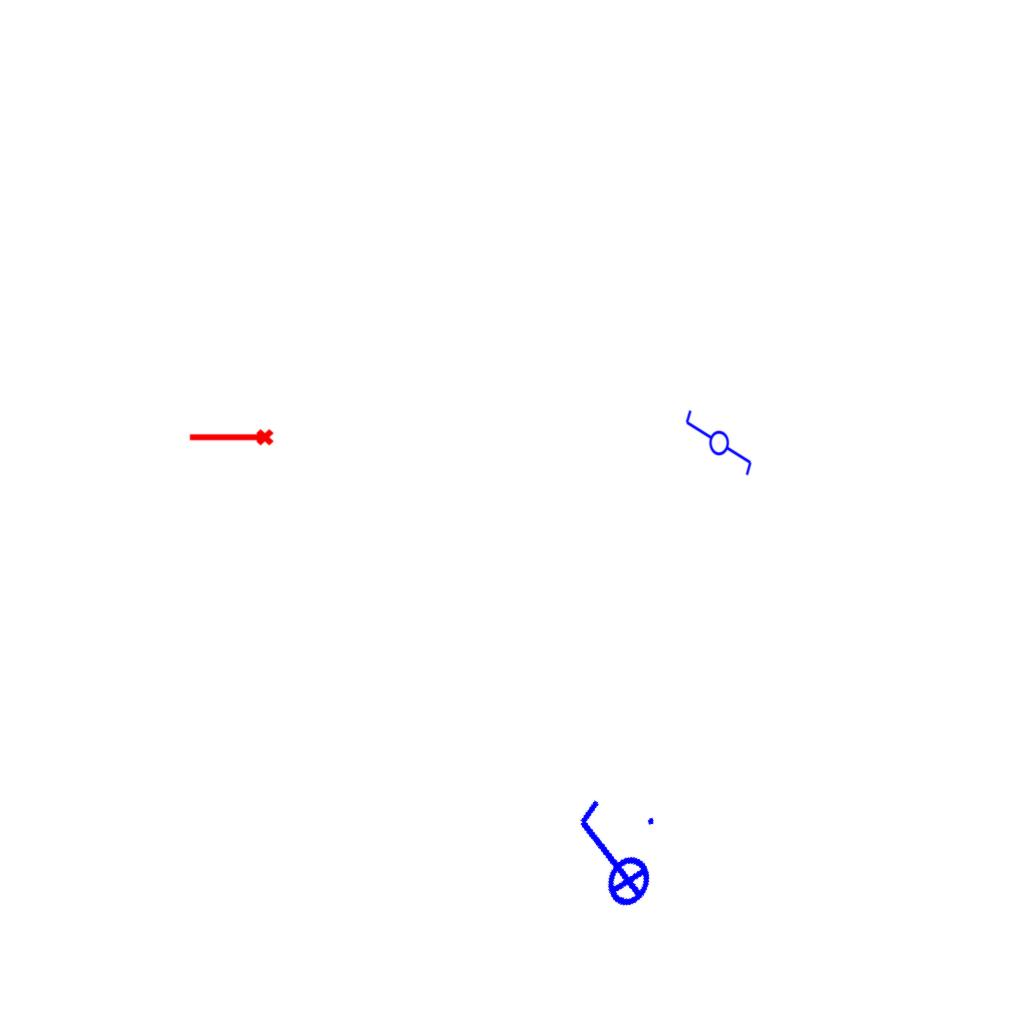ASR_Ansaugoeffnung: (187, 427, 275, 450)
Ausschalter_beleuchtet: (545, 786, 675, 926)
Wechselschalter: (682, 408, 754, 486)
